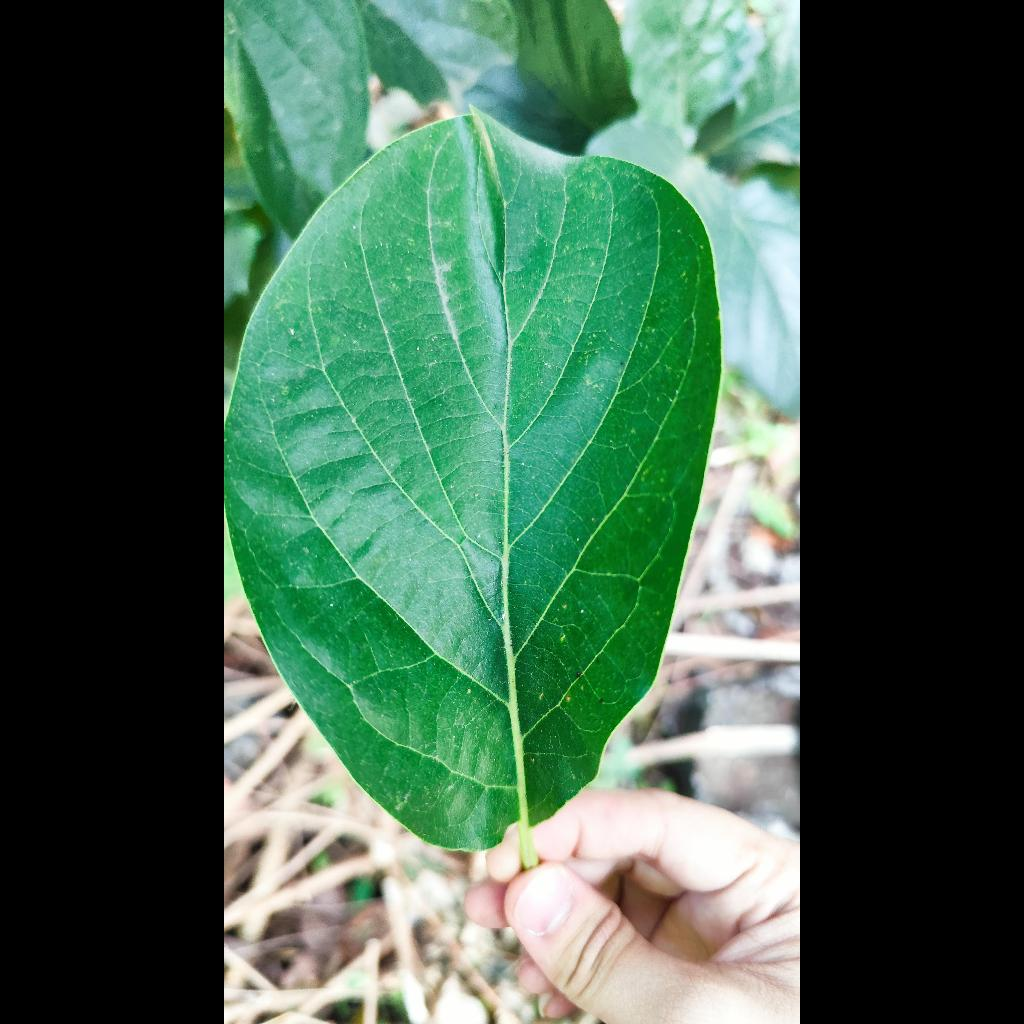Healthy: (226, 111, 720, 850)
